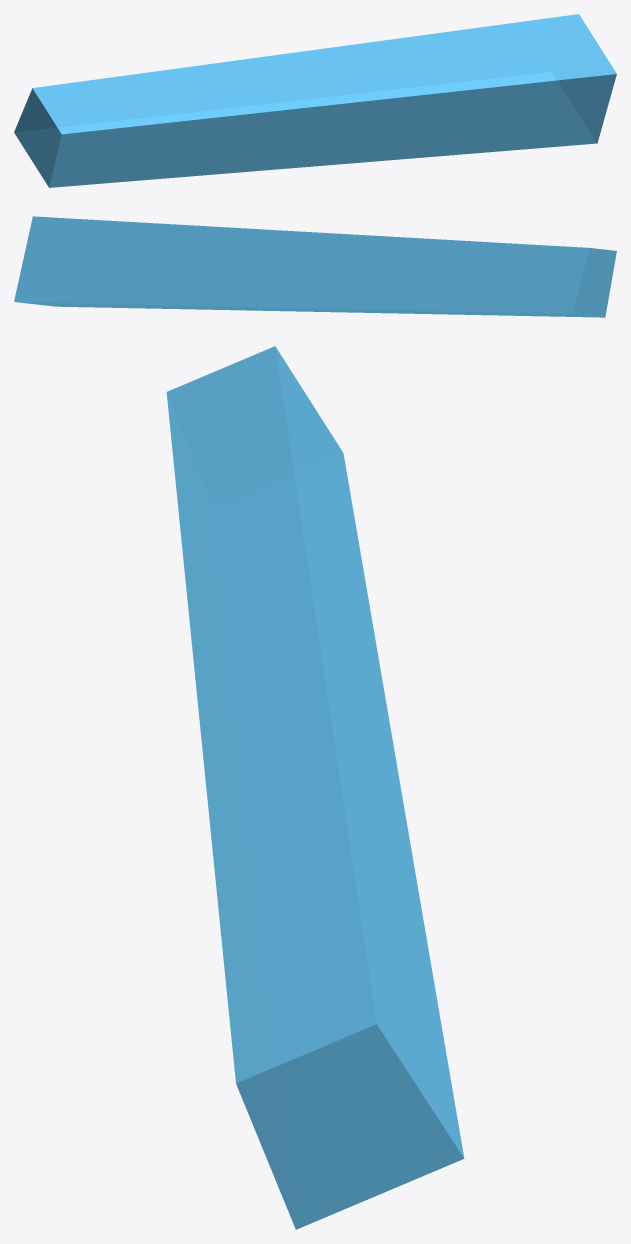
The model's file is Event_421115418_HErechit_59.fbx.
The picture shows the model from 3 angles, top to bottom: view 1: azimuth 30°, elevation 25°; view 2: azimuth 150°, elevation 25°; view 3: azimuth 270°, elevation 25°; orthographic projection. The views are drawn at different scales.
Visible parts, largest first — view 1: Model; view 2: Model; view 3: Model.
Part boxes in pixels (bbox=[...]): Model: bbox=[14, 14, 616, 187]; Model: bbox=[14, 216, 616, 317]; Model: bbox=[166, 346, 464, 1229].
Bounding box in the file's own units: 3 × 0.9922 × 0.7276.
